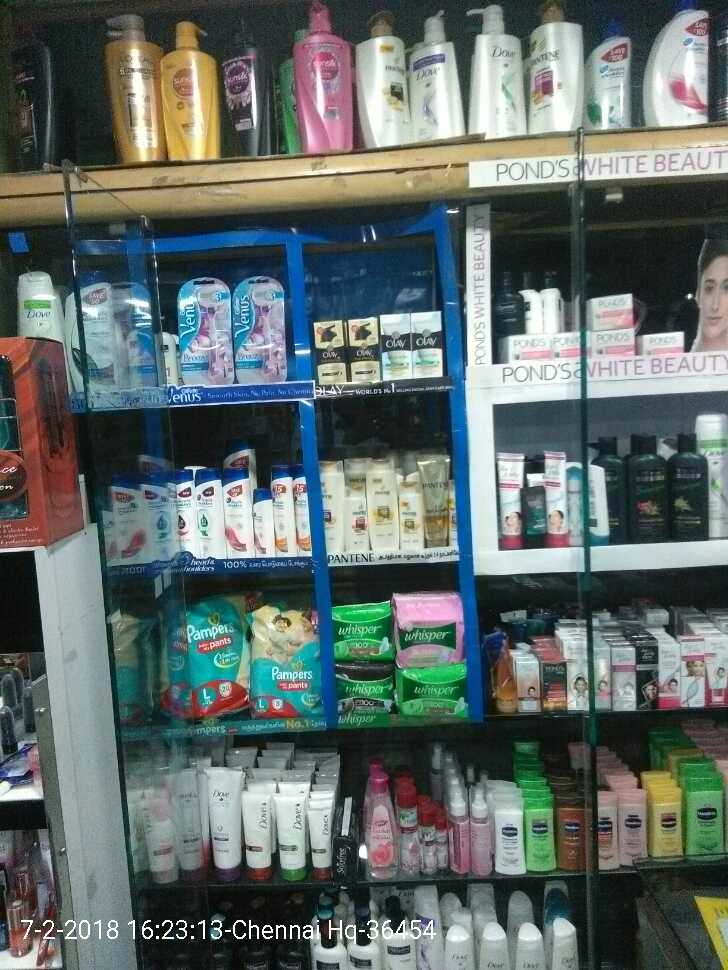venus: (173, 277, 236, 387), (236, 276, 291, 387)
